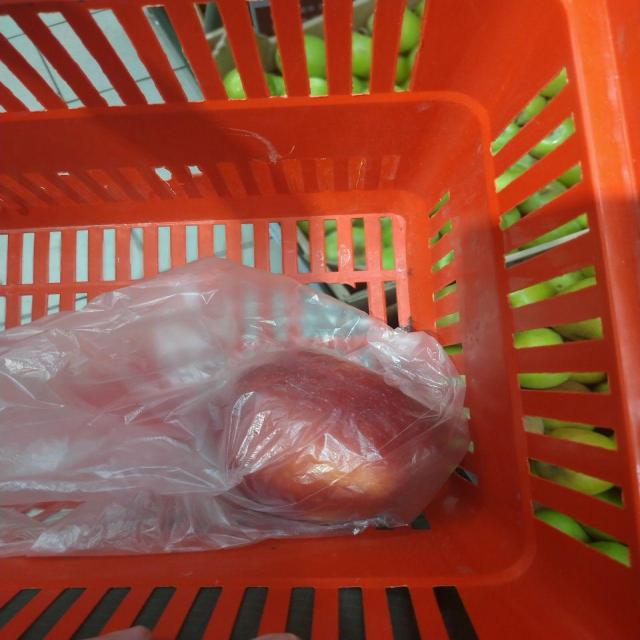Apple: (228, 350, 458, 524)
